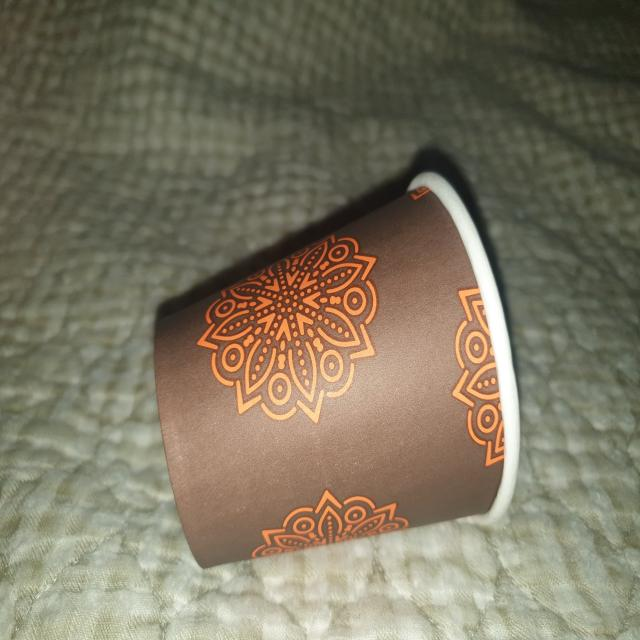cups: (146, 160, 524, 584)
